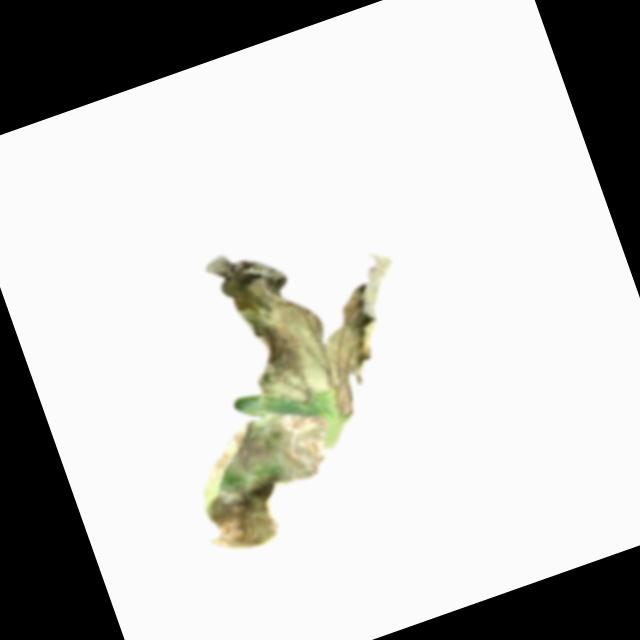Late_blight: (198, 200, 435, 448), (177, 398, 358, 563)
